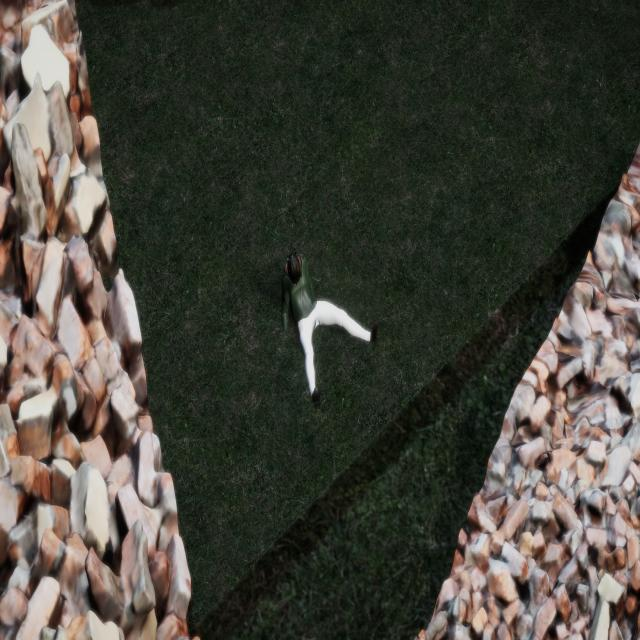Human: (269, 247, 377, 422)
